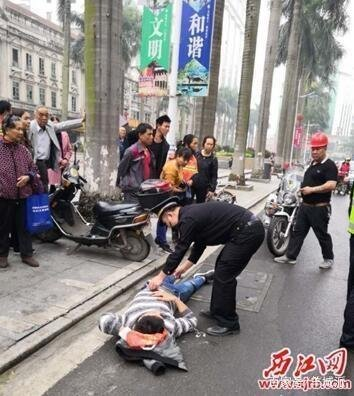10+: (2, 96, 354, 347)
down: (106, 263, 220, 367)
